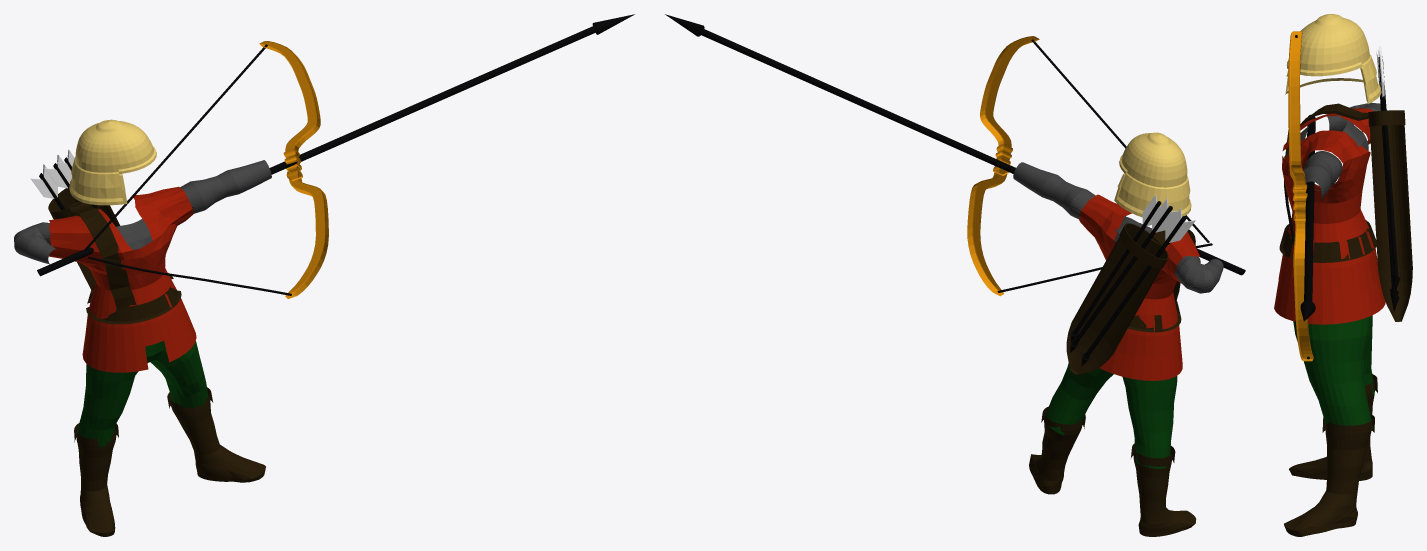
File: Archers.glb
The picture shows the model from 3 angles, left to right: view 1: azimuth 30°, elevation 25°; view 2: azimuth 150°, elevation 25°; view 3: azimuth 270°, elevation 25°; orthographic projection. The views are drawn at different scales.
Visible parts, largest first — view 1: jacket, pants, Circle.007, Cylinder, boot left, Cylinder.003, boot right, Circle.004, Plane.002, Circle.006, Circle.005, Circle.008 (+1 smaller); view 2: jacket, Circle.008, pants, Circle.007, Cylinder, Cylinder.003, boot right, boot left, Circle.004, Circle.005, Cylinder.004, Cylinder.005 (+1 smaller); view 3: jacket, pants, Circle.008, boot left, Circle.007, Cylinder, Circle.006, Cylinder.003, boot right, Circle.004, Cylinder.006, Cylinder.005 (+5 smaller).
Part boxes in pixels (left/top/right/bottom): jacket: left=49, top=186, right=196, bottom=372; pants: left=76, top=340, right=208, bottom=447; Circle.007: left=69, top=119, right=156, bottom=205; Cylinder: left=259, top=41, right=328, bottom=298; boot left: left=167, top=387, right=265, bottom=482; Cylinder.003: left=37, top=14, right=634, bottom=276; boot right: left=74, top=423, right=118, bottom=536; Circle.004: left=180, top=160, right=271, bottom=213; Plane.002: left=69, top=201, right=136, bottom=309; Circle.006: left=86, top=273, right=181, bottom=324; Circle.005: left=14, top=222, right=56, bottom=264; Circle.008: left=48, top=188, right=120, bottom=289; jacket: left=1079, top=194, right=1199, bottom=380; Circle.008: left=1066, top=223, right=1168, bottom=374; pants: left=1045, top=363, right=1177, bottom=468; Circle.007: left=1114, top=132, right=1191, bottom=217; Cylinder: left=967, top=36, right=1039, bottom=296; Cylinder.003: left=665, top=14, right=1245, bottom=275; boot right: left=1131, top=443, right=1196, bottom=536; boot left: left=1029, top=406, right=1085, bottom=494; Circle.004: left=1013, top=162, right=1095, bottom=219; Circle.005: left=1174, top=256, right=1223, bottom=293; Cylinder.004: left=1081, top=216, right=1186, bottom=366; Cylinder.005: left=1070, top=206, right=1172, bottom=352; jacket: left=1274, top=108, right=1385, bottom=324; pants: left=1293, top=315, right=1374, bottom=429; Circle.008: left=1368, top=110, right=1412, bottom=321; boot left: left=1284, top=414, right=1374, bottom=536; Circle.007: left=1285, top=14, right=1381, bottom=103; Cylinder: left=1288, top=31, right=1313, bottom=361; Circle.006: left=1279, top=220, right=1376, bottom=262; Cylinder.003: left=1300, top=114, right=1315, bottom=321; boot right: left=1289, top=374, right=1377, bottom=480; Circle.004: left=1303, top=151, right=1342, bottom=200; Cylinder.006: left=1378, top=57, right=1400, bottom=291; Cylinder.005: left=1377, top=61, right=1398, bottom=306.
Bounding box in the file's own units: 3.55 × 2.59 × 0.6113.
